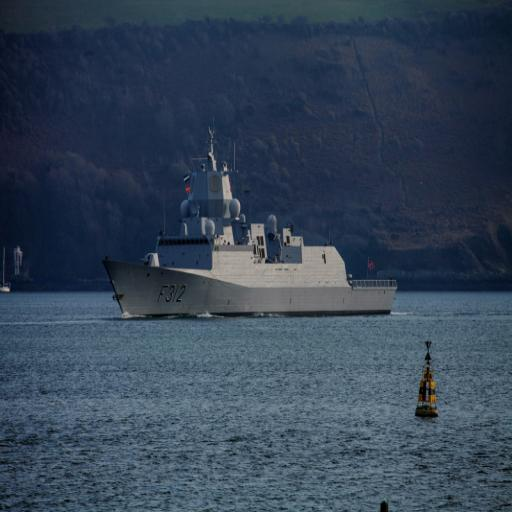Fragata: (102, 119, 400, 319)
